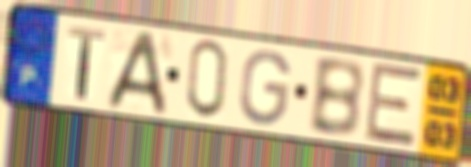0: (184, 37, 230, 123)
A: (104, 29, 171, 116)
B: (306, 56, 367, 141)
E: (361, 60, 425, 150)
G: (236, 47, 294, 129)
T: (65, 23, 107, 103)
